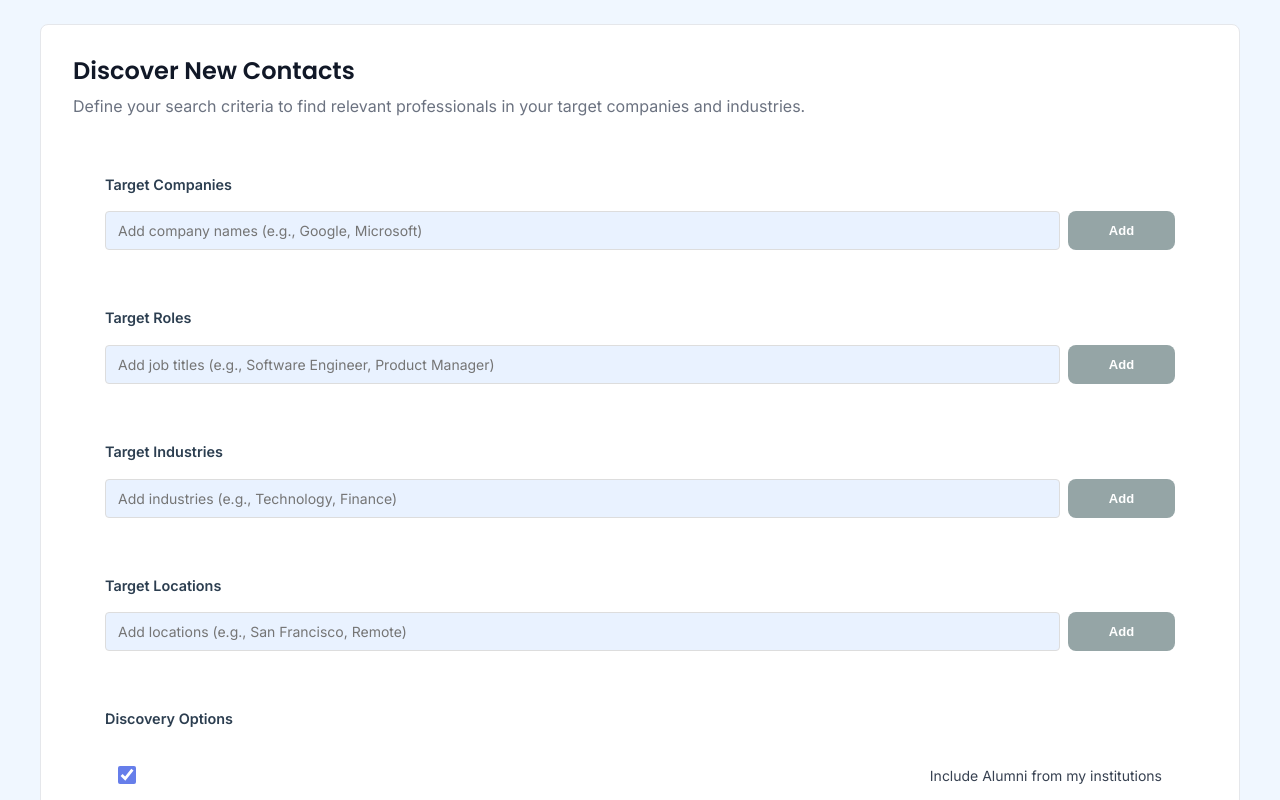
Test case: DiscoverySearchForm › removes company from list
The width and height of the screenshot is (1280, 800).
Type "Apple" into the field with placeholder "Add company names (e.g., Google, Microsoft)" at x=582, y=231, box [105,211,1060,250]
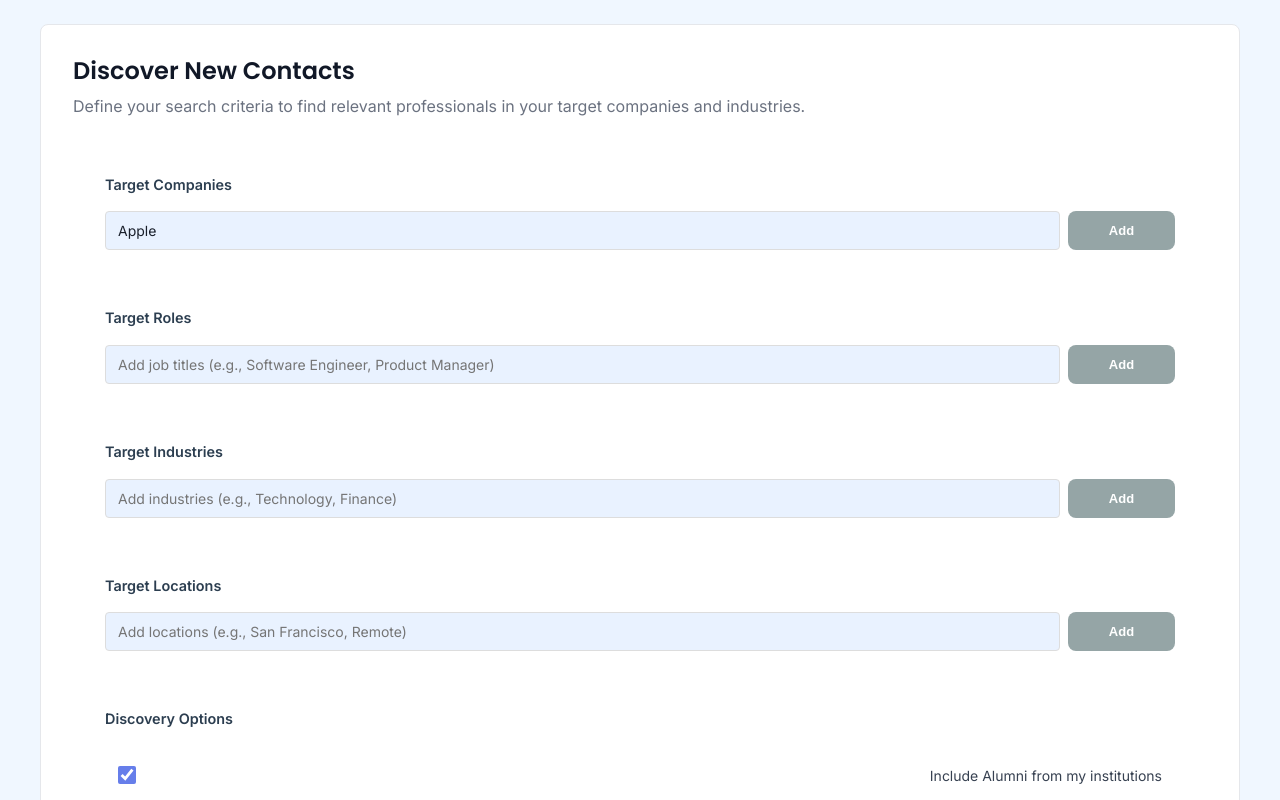
Click the 1st button "Add" at x=1122, y=231, box [1068,211,1175,250]
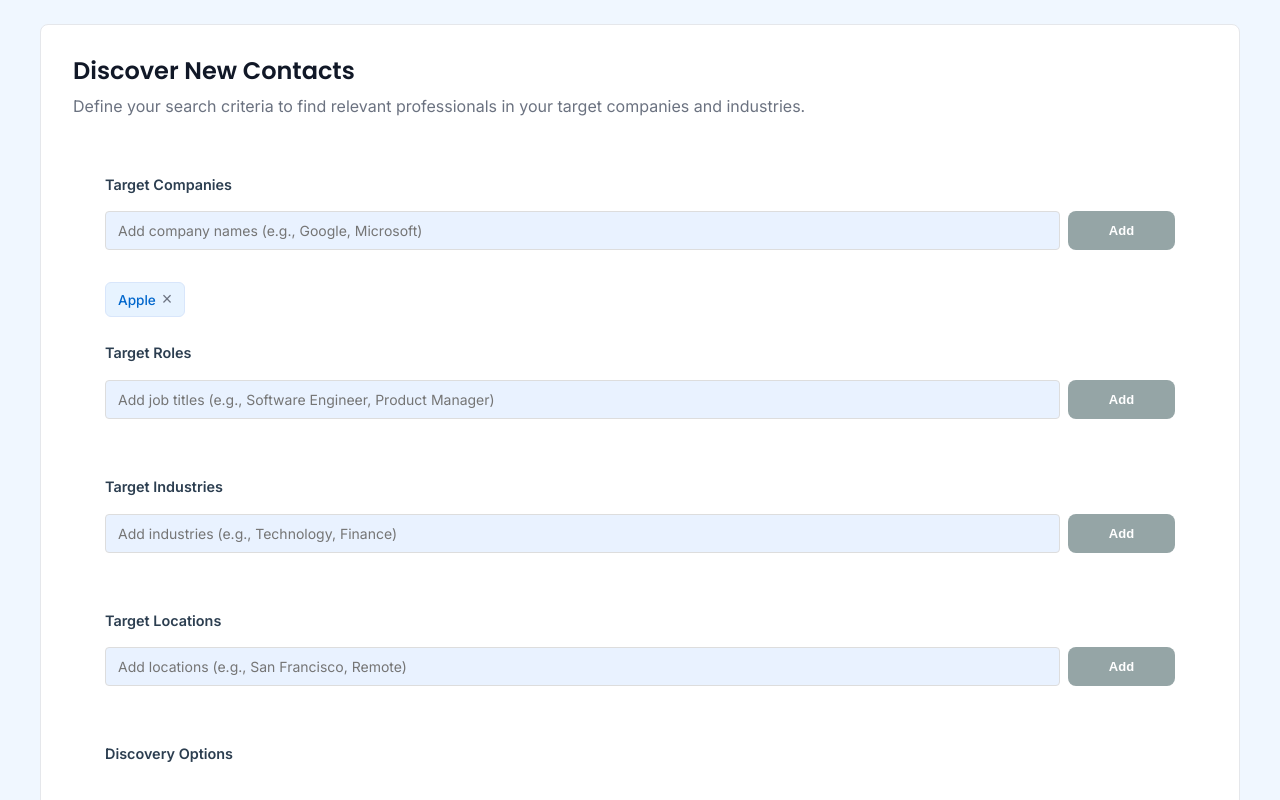
Now the text "Apple" is shown, box [118,292,156,308]
Click the button "×" at x=167, y=300, box [162,289,172,310]
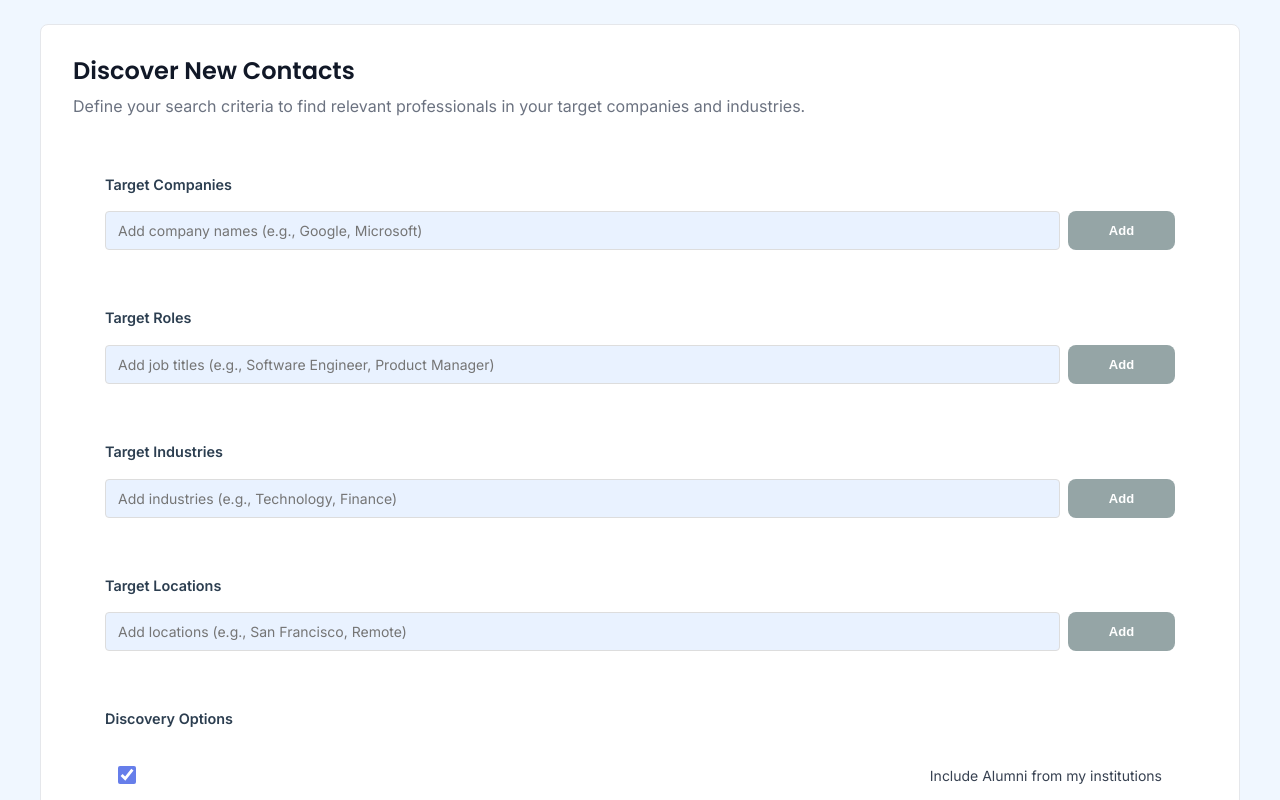
Now the text "Apple" is gone
